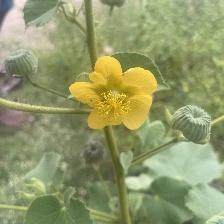indian mallow: (69, 56, 158, 133)
